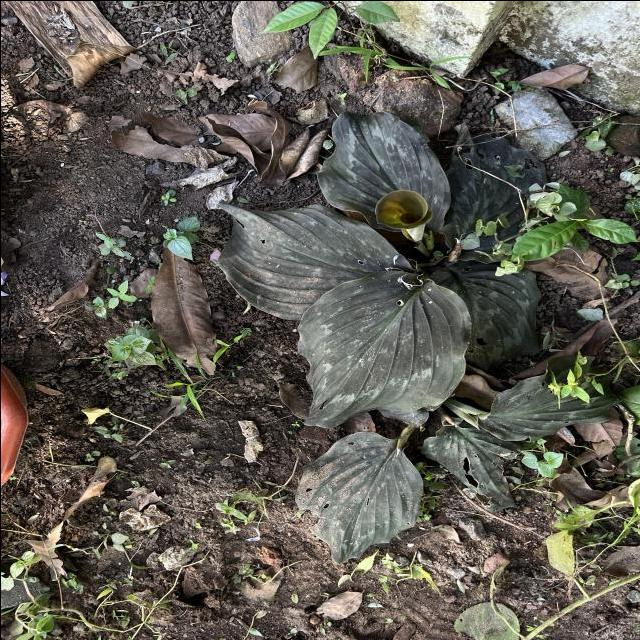Kaempferia galanga linn: (294, 269, 473, 429), (214, 196, 416, 322), (292, 429, 424, 566), (312, 108, 452, 235)
